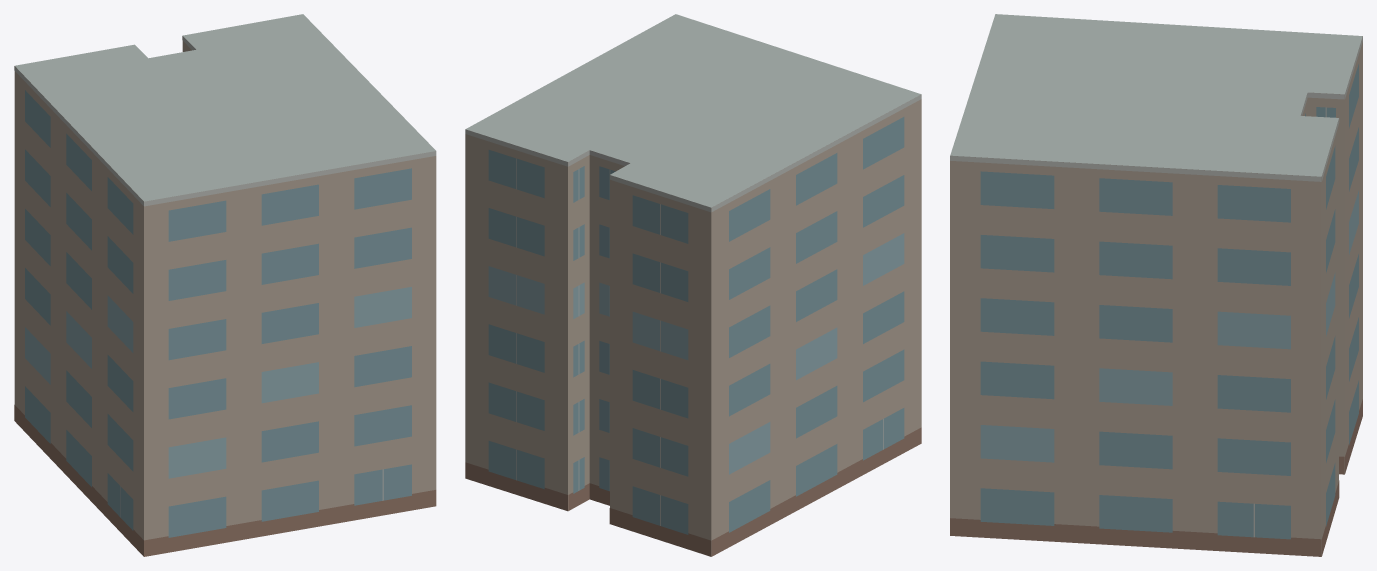
File: survey-upis-32841364.glb
3 renders of one model, left to right at view 1: azimuth 30°, elevation 25°; view 2: azimuth 150°, elevation 25°; view 3: azimuth 270°, elevation 25°, orthographic. The views are drawn at different scales.
Parts seen in each view (by area): view 1: survey-upis-32841364.tmp; view 2: survey-upis-32841364.tmp; view 3: survey-upis-32841364.tmp.
Boxes of the visible parts, x1,y1,x2,y2 form: survey-upis-32841364.tmp: (14, 14, 436, 556); survey-upis-32841364.tmp: (465, 14, 921, 556); survey-upis-32841364.tmp: (950, 14, 1362, 556).
Size of the model in its own units: 16.54 by 18 by 17.72.
